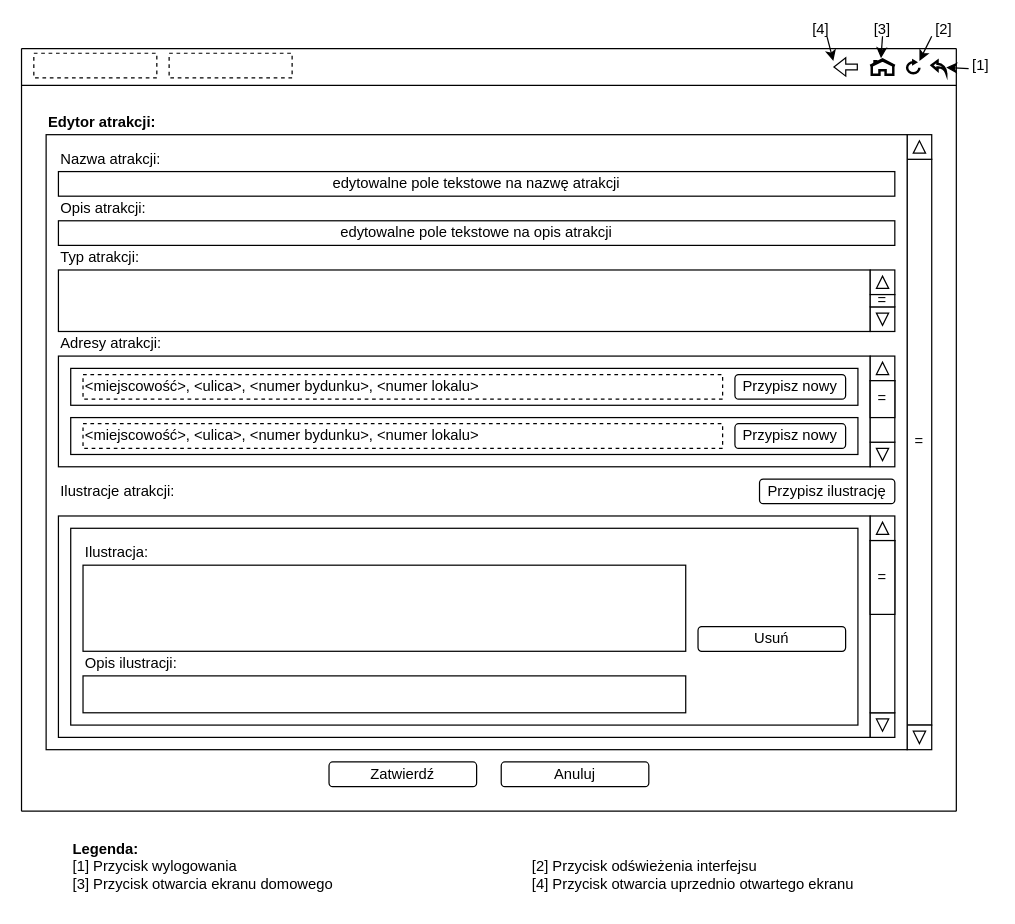
Some shapes in this 1015 by 924 pixel diagram are drawn without their labels. Here are the shapes that lost their labels. From the top down, the centre of each, then its label:
(95,65): login
(230,65): rola
(463,300): lista wielokrotnego wyboru zawierająca typy atrakcji
(384,607): ilustracja 1 z n
(384,694): edytowalne pole tekstowe na opis ilustracji 1 z n
